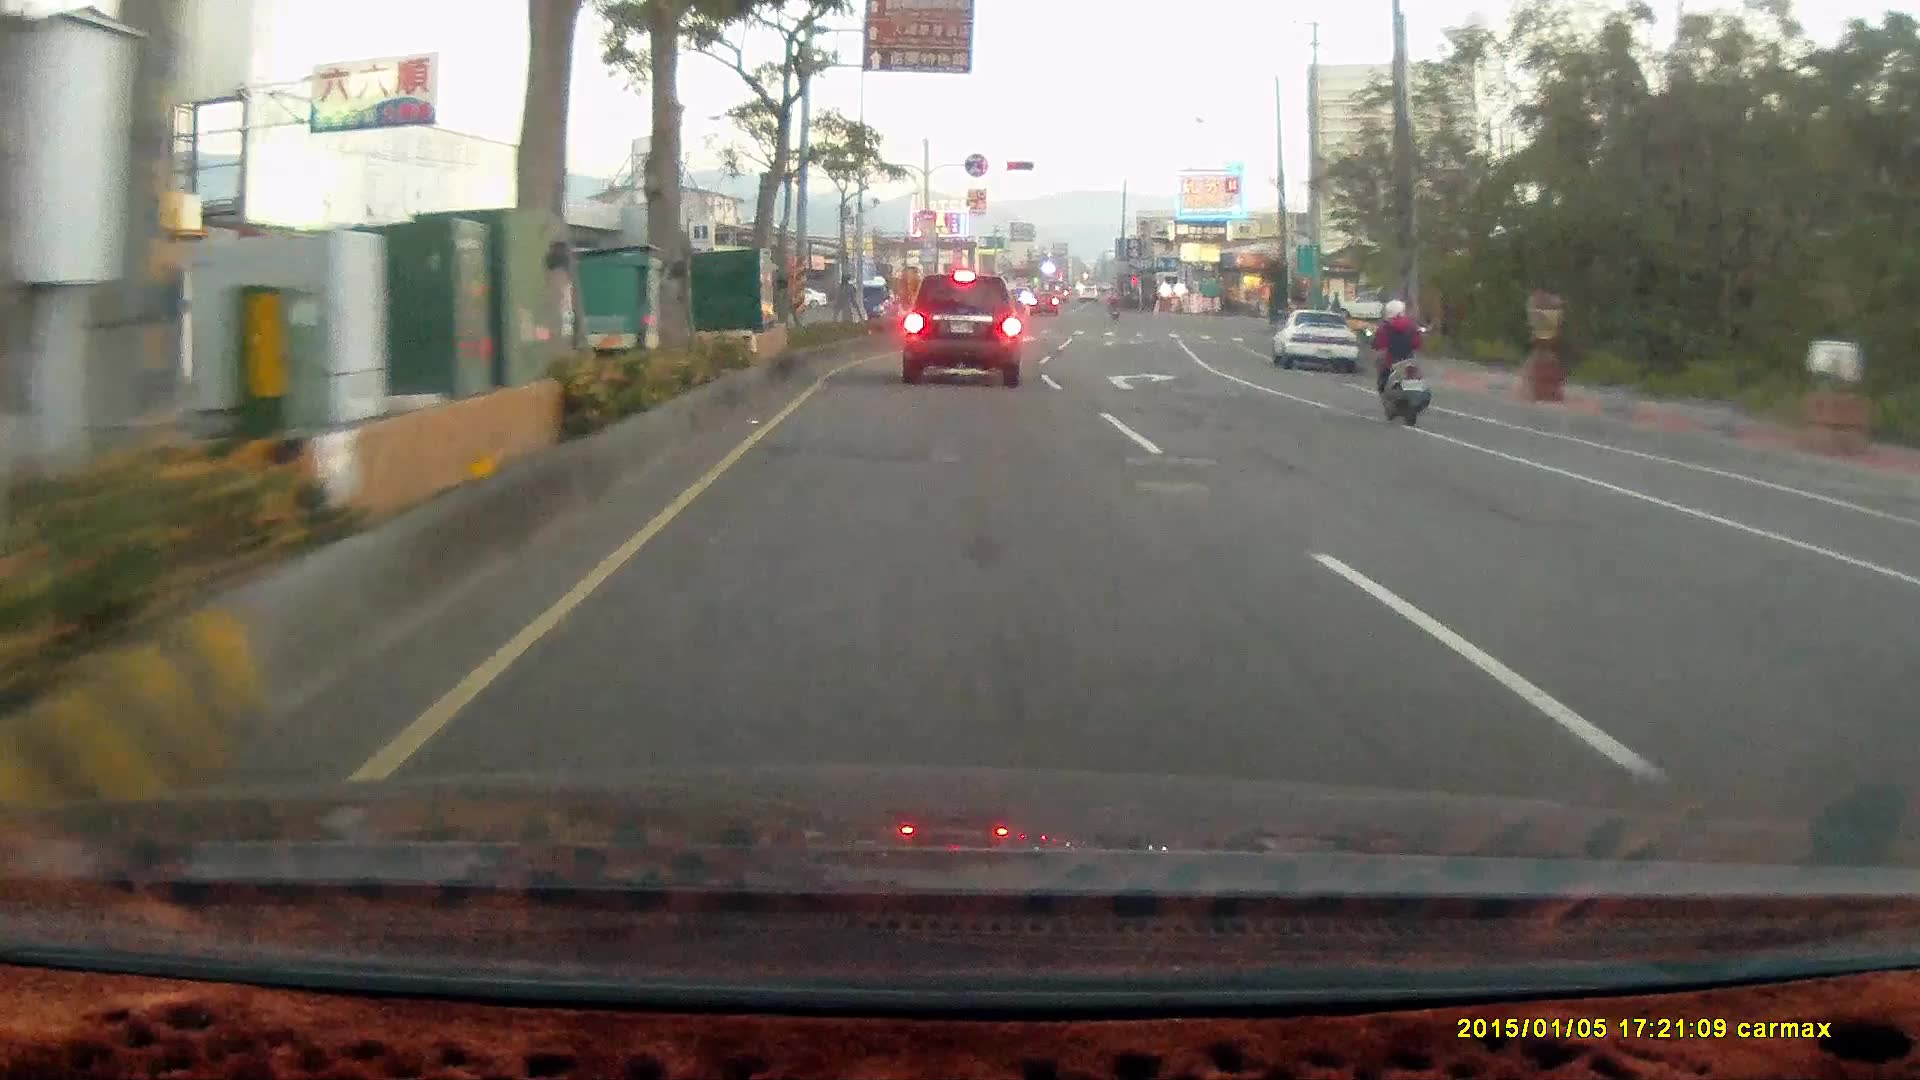rider: (1361, 293, 1431, 425)
vehicle: (902, 273, 1021, 386), (1896, 493, 1920, 836), (1268, 306, 1360, 373), (1883, 528, 1920, 690), (1274, 309, 1360, 373), (1320, 288, 1399, 324)
